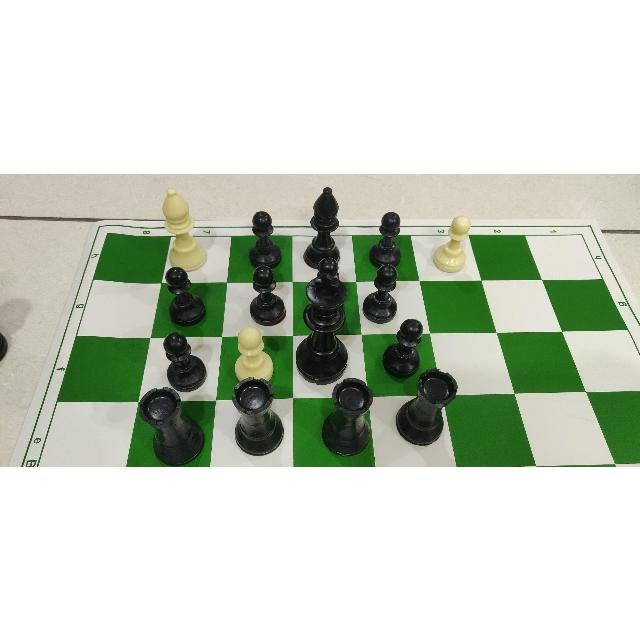black-bishop: (303, 185, 340, 268)
black-king: (295, 275, 348, 382)
black-pawn: (161, 329, 209, 395), (163, 263, 207, 327), (381, 316, 425, 379), (359, 261, 400, 325), (247, 262, 288, 326), (163, 331, 206, 391), (382, 317, 423, 377), (166, 266, 206, 326), (312, 255, 346, 321), (250, 264, 286, 324), (248, 208, 284, 268), (362, 263, 397, 323), (368, 210, 402, 267), (249, 210, 281, 268), (370, 211, 400, 267)
black-rook: (136, 384, 205, 465), (393, 366, 460, 446), (139, 386, 205, 466), (396, 367, 458, 445), (229, 374, 286, 457), (319, 376, 375, 458), (321, 377, 373, 455), (232, 377, 284, 455)
white-bishop: (158, 183, 209, 271), (162, 186, 207, 271)
white-pawn: (430, 210, 474, 274), (233, 322, 276, 383), (433, 214, 471, 272), (234, 325, 273, 381)
